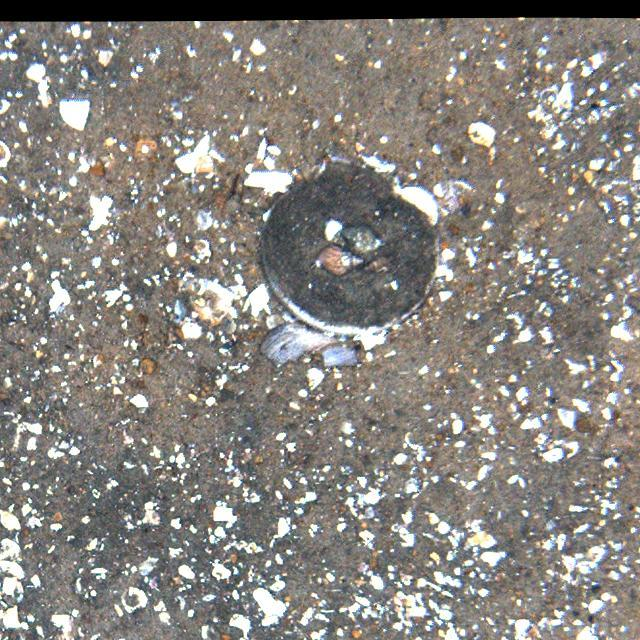whelk: (309, 247, 364, 277)
